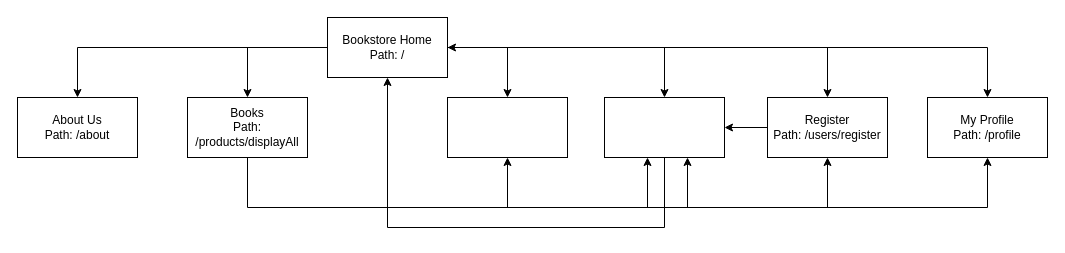
The diagram is 1065 pixels wide and 253 high, and some of its shapes have lost their labels. The shapes that lost their labels are listed below. From the top down, each one's centre as x and y in pixels, then its label:
At (x=507, y=127): "Collections/Shelves Path: /shelves".
At (x=664, y=127): "Login Path: /users/login".
